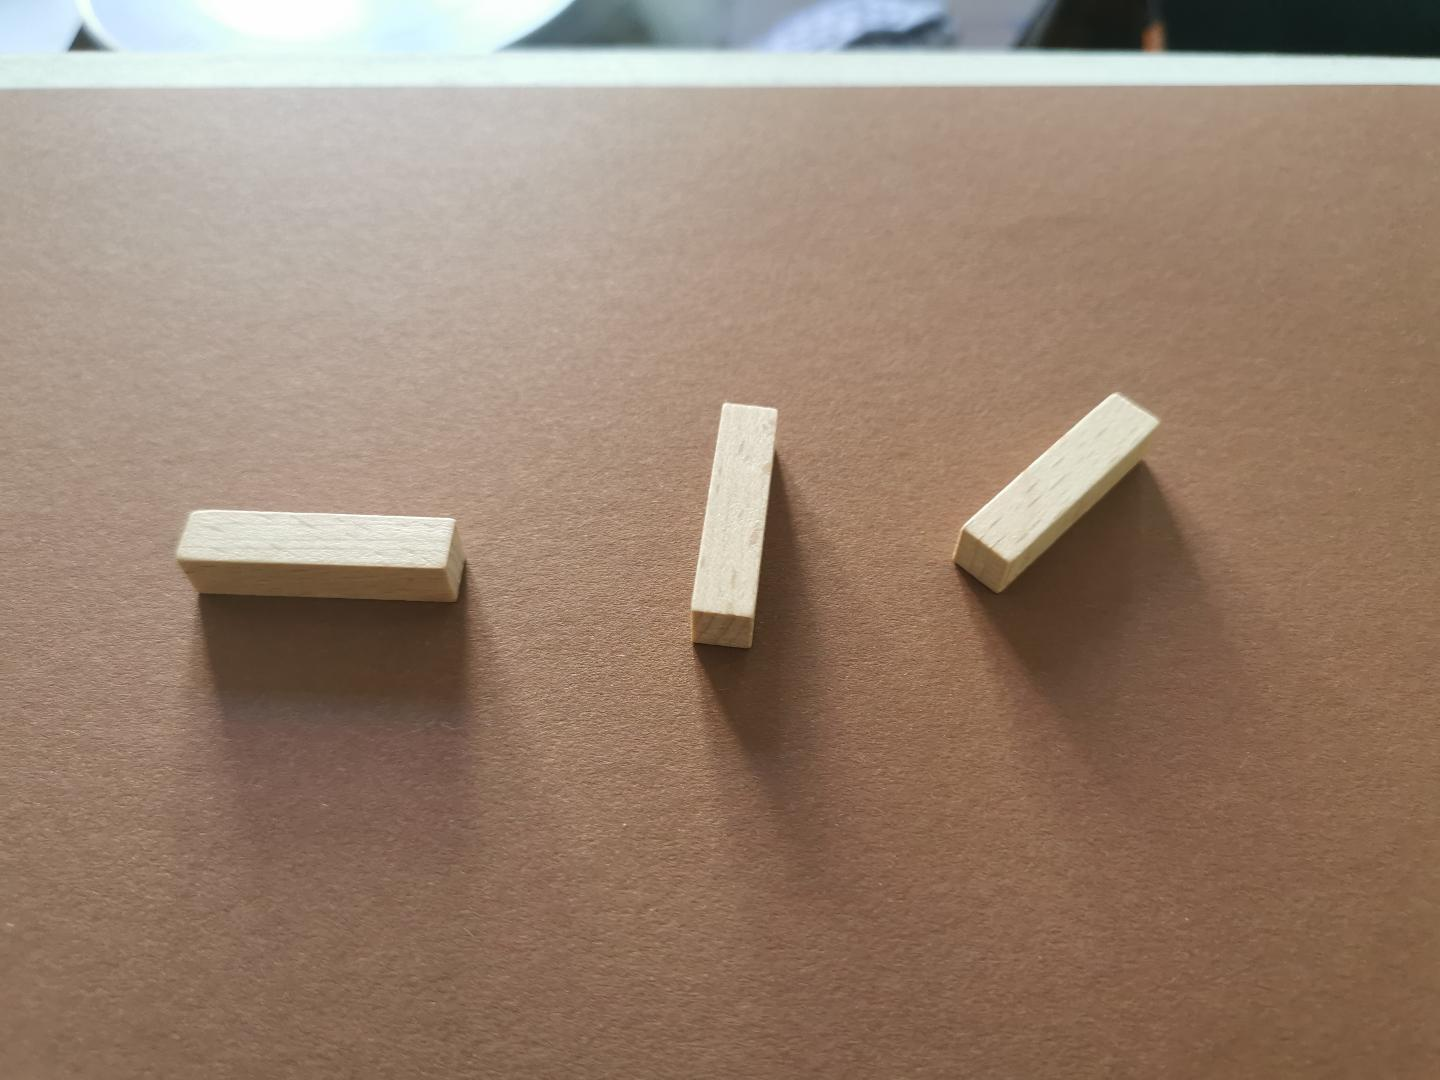jenga: (954, 394, 1159, 593), (177, 509, 464, 602), (692, 403, 777, 647)
